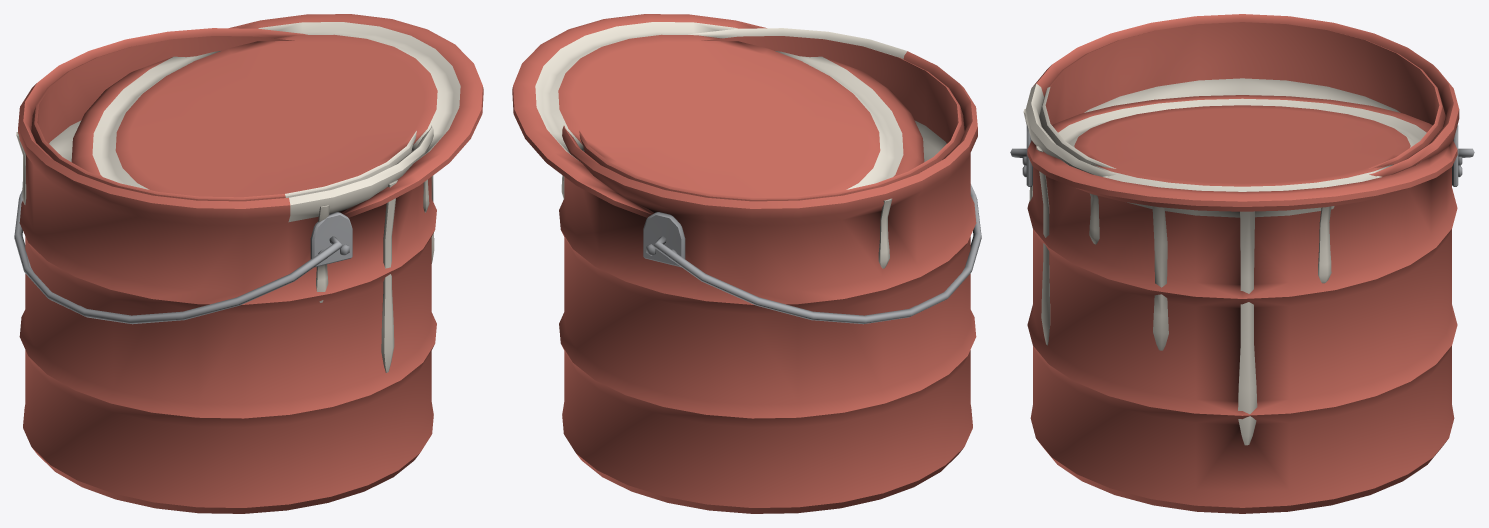
Rendered from junk_bucket_paint.glb.
3 renders of one model, left to right at view 1: azimuth 30°, elevation 25°; view 2: azimuth 150°, elevation 25°; view 3: azimuth 270°, elevation 25°, orthographic. The views are drawn at different scales.
Visible parts, largest first — view 1: PART; view 2: PART; view 3: PART.
Part boxes in pixels (x1=…): PART: x1=14, y1=14, x2=483, y2=513; PART: x1=512, y1=14, x2=981, y2=513; PART: x1=1010, y1=14, x2=1474, y2=513.
Bounding box in the file's own units: 0.3022 × 0.2343 × 0.2882.
